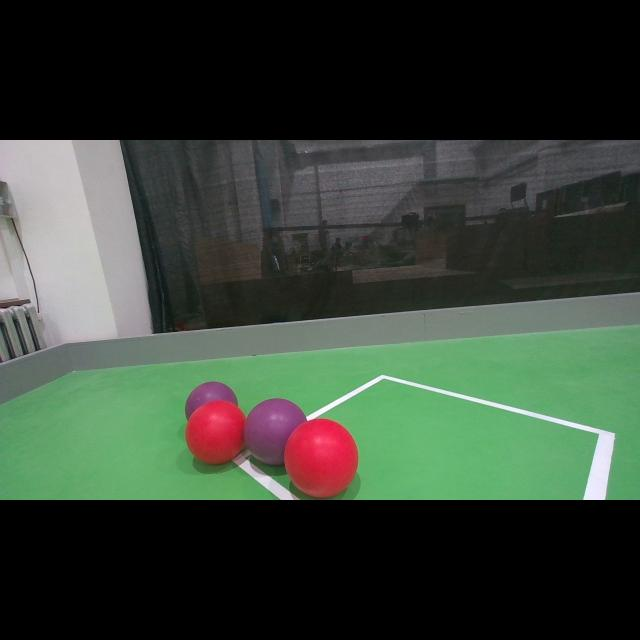P: (250, 393, 310, 462), (178, 377, 238, 403)
R: (284, 418, 358, 498), (186, 400, 247, 464)
